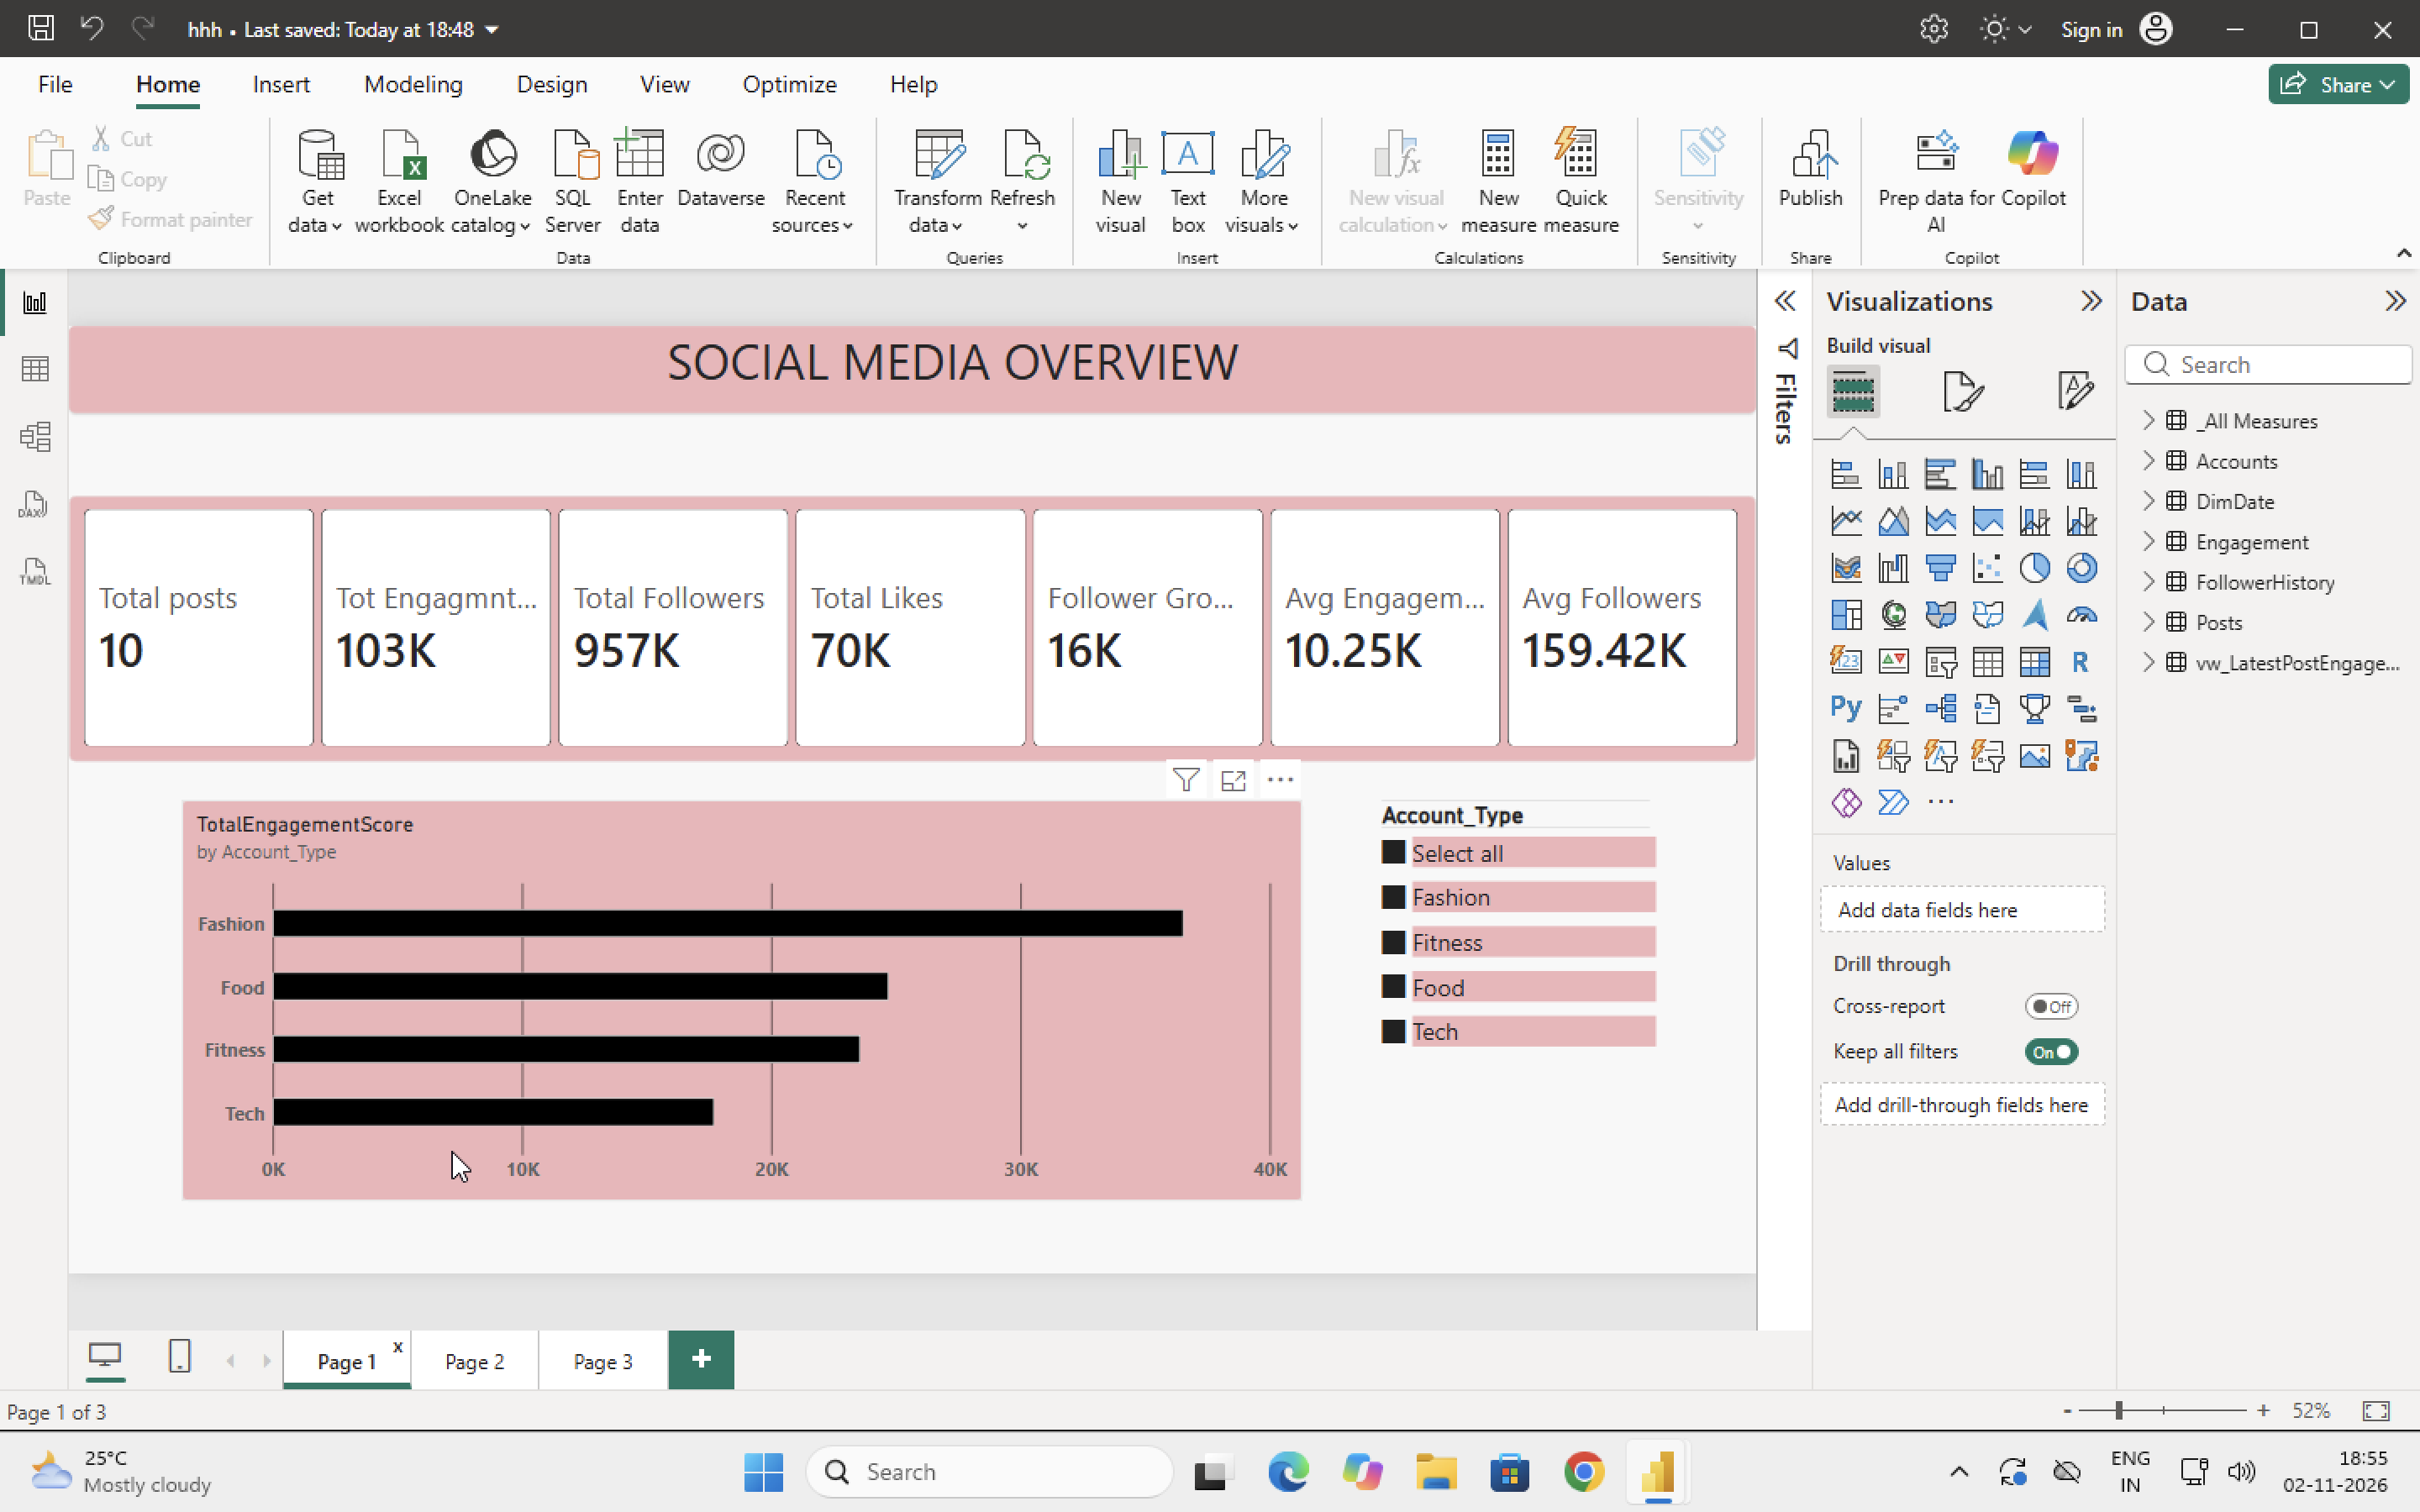

The page's visual inventory and layout, read from the dashboard file:
{"tool":"powerbi","page":{"name":"Page 1","canvas":[1920,1080],"ordinal":0},"visuals":[{"type":"cardVisual","fields":{"Data":["_All Measures.Total posts","_All Measures.Tot Engagement Score","_All Measures.Total Followers","_All Measures.Total Likes","_All Measures.Follower Growth","_All Measures.Avg Engagement Per Post","_All Measures.Avg Followers"]},"box":[0,192.9,1920,303.2],"z":0},{"type":"clusteredBarChart","fields":{"Category":["vw_LatestPostEngagement.Account_Type"],"Y":["Sum(vw_LatestPostEngagement.TotalEngagementScore)"]},"box":[128.1,539.3,1275.5,457.1],"z":1000},{"type":"slicer","fields":{"Values":["vw_LatestPostEngagement.Account_Type"]},"box":[1485.9,539.3,321.3,298.3],"z":2000},{"type":"textbox","box":[105.2,0,300,300],"z":3000},{"type":"textbox","box":[0,0,1920,99.4],"z":4000}]}

Visuals, with their boxes on the page's 1920x1080 design canvas (x1, y1, x2, y2). These are canvas units, not pixel positions in the 2420x1512 screenshot, which may show the page scaled, cropped or inside an application window:
cardVisual - _All Measures.Total posts x _All Measures.Tot Engagement Score: detection(0, 193, 1920, 496)
clusteredBarChart - vw_LatestPostEngagement.Account_Type x Sum(vw_LatestPostEngagement.TotalEngagementScore): detection(128, 539, 1404, 996)
slicer - vw_LatestPostEngagement.Account_Type: detection(1486, 539, 1807, 838)
textbox: detection(105, 0, 405, 300)
textbox: detection(0, 0, 1920, 99)
